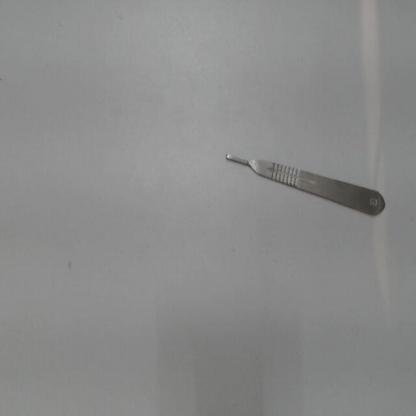No.3 BP Handle: (222, 138, 388, 224)
